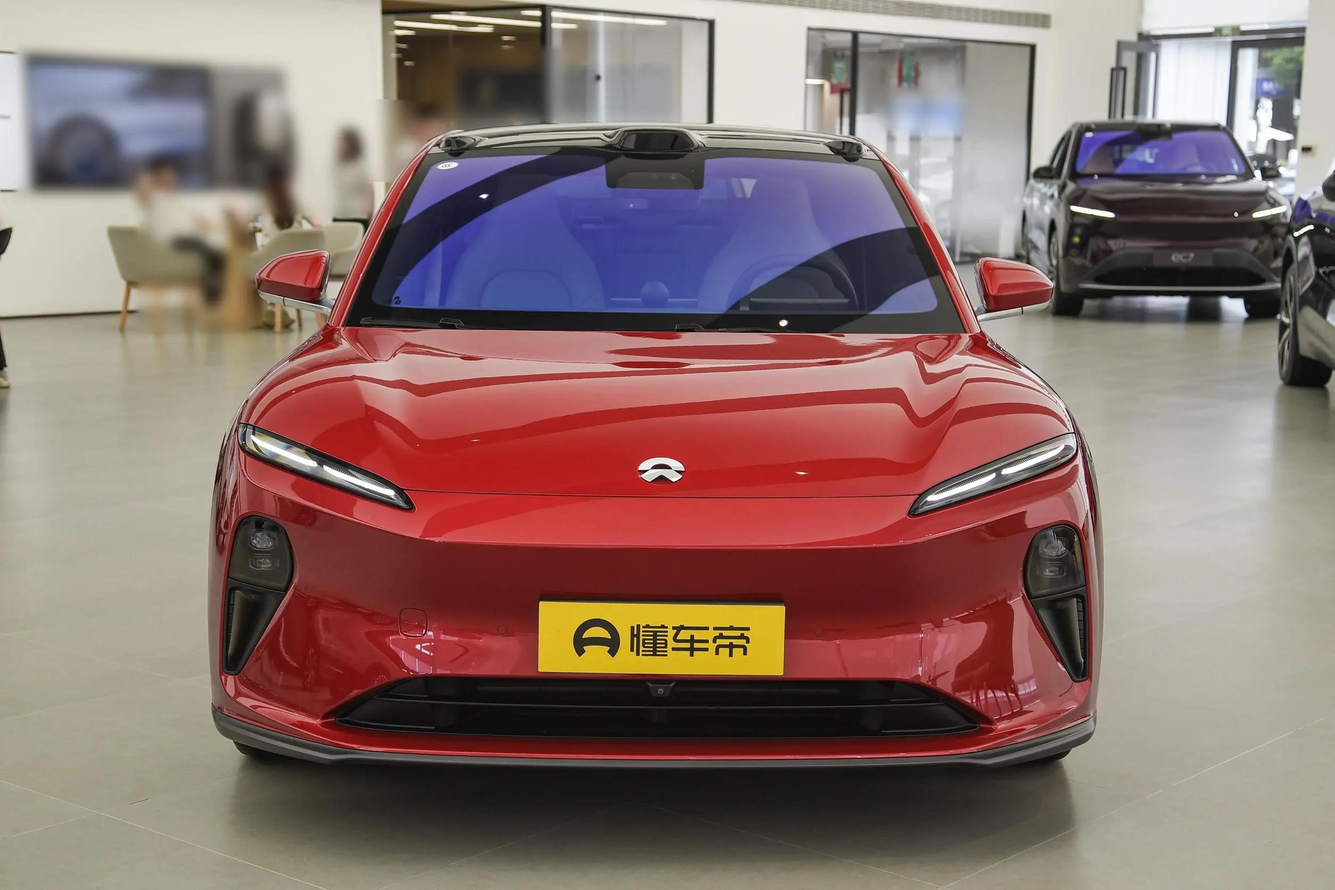NIO: (637, 457, 685, 482)
